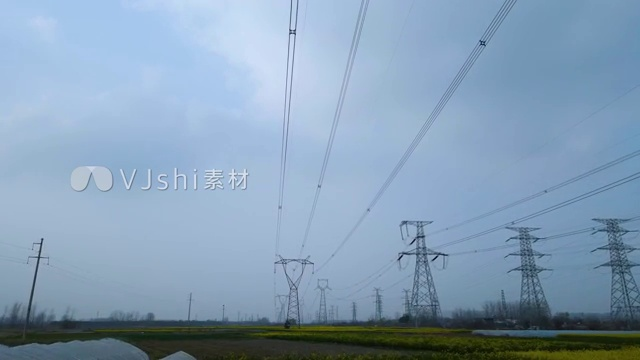tower_body: (398, 212, 453, 326), (499, 216, 556, 320), (268, 249, 321, 328)
tower_foot: (409, 298, 444, 323), (516, 297, 551, 316), (280, 301, 302, 326)
tower_head: (271, 252, 315, 291), (503, 222, 549, 244), (403, 215, 434, 230)
